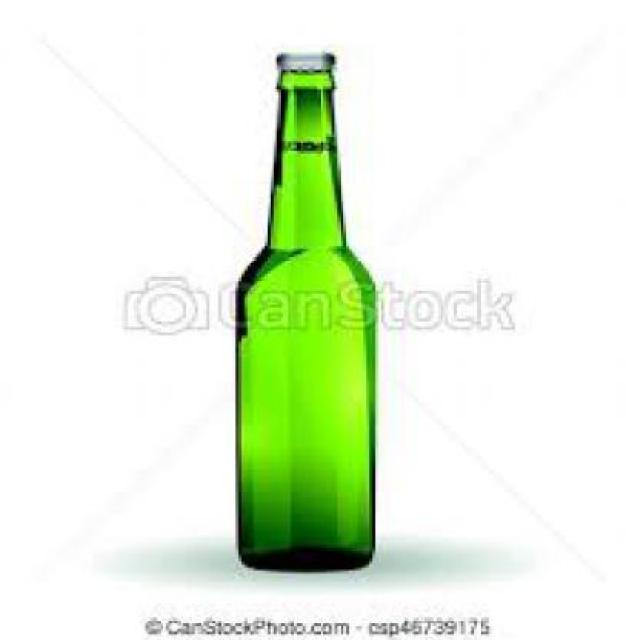kaca: (232, 68, 372, 570)
